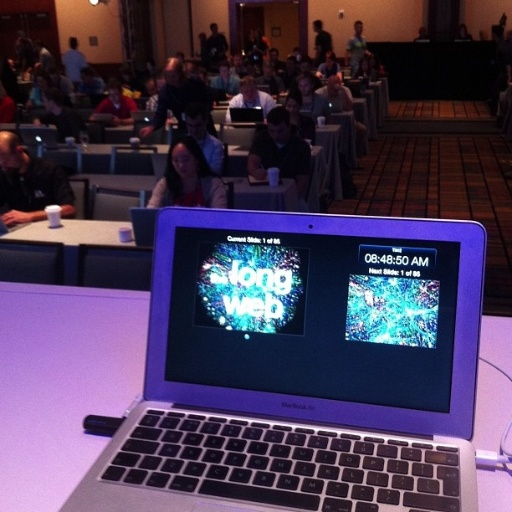hand: (0, 207, 27, 225), (250, 167, 268, 182), (137, 128, 153, 138)
